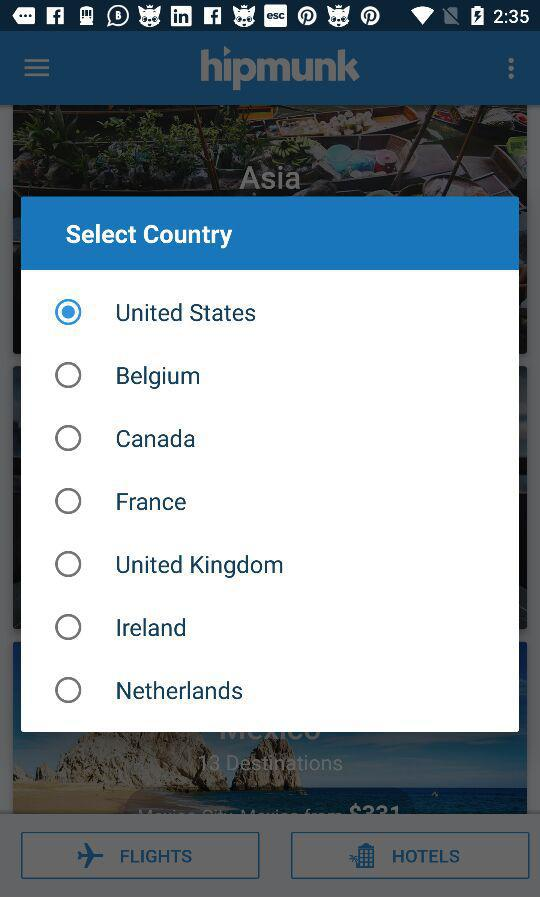CheckedTextView: (55, 550, 284, 579), (55, 299, 256, 327), (55, 676, 243, 704), (55, 362, 200, 390), (55, 425, 196, 452), (55, 488, 187, 516), (55, 614, 187, 641)
Icon: (24, 59, 51, 79), (507, 59, 514, 81)
Modal: (21, 196, 520, 733)
Text: (201, 46, 361, 92), (66, 224, 233, 250), (117, 554, 284, 579), (117, 303, 256, 323), (116, 680, 243, 700), (117, 366, 200, 390), (117, 429, 196, 449), (117, 617, 187, 637), (117, 492, 187, 511)
TextButton: (21, 831, 261, 880), (291, 831, 530, 880)
UpperTaskBar: (1, 1, 540, 33)
